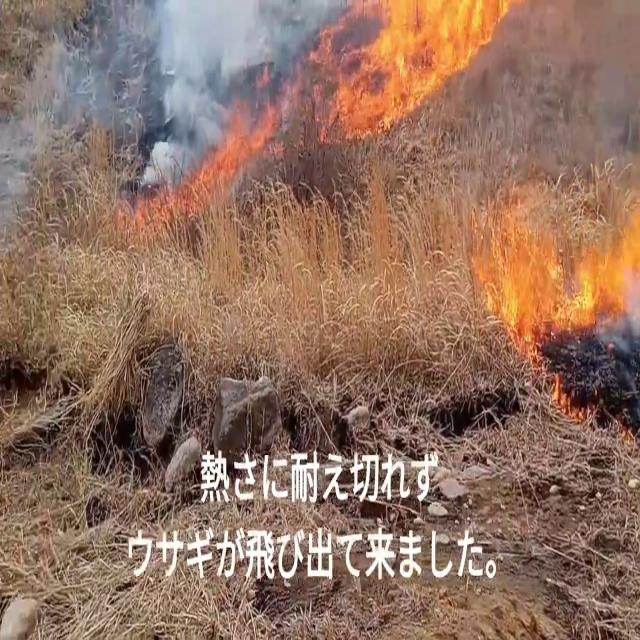Fire: (309, 0, 526, 132), (457, 160, 565, 396), (574, 168, 640, 332), (197, 85, 282, 198)
Smoke: (144, 0, 304, 205), (0, 25, 111, 238)
